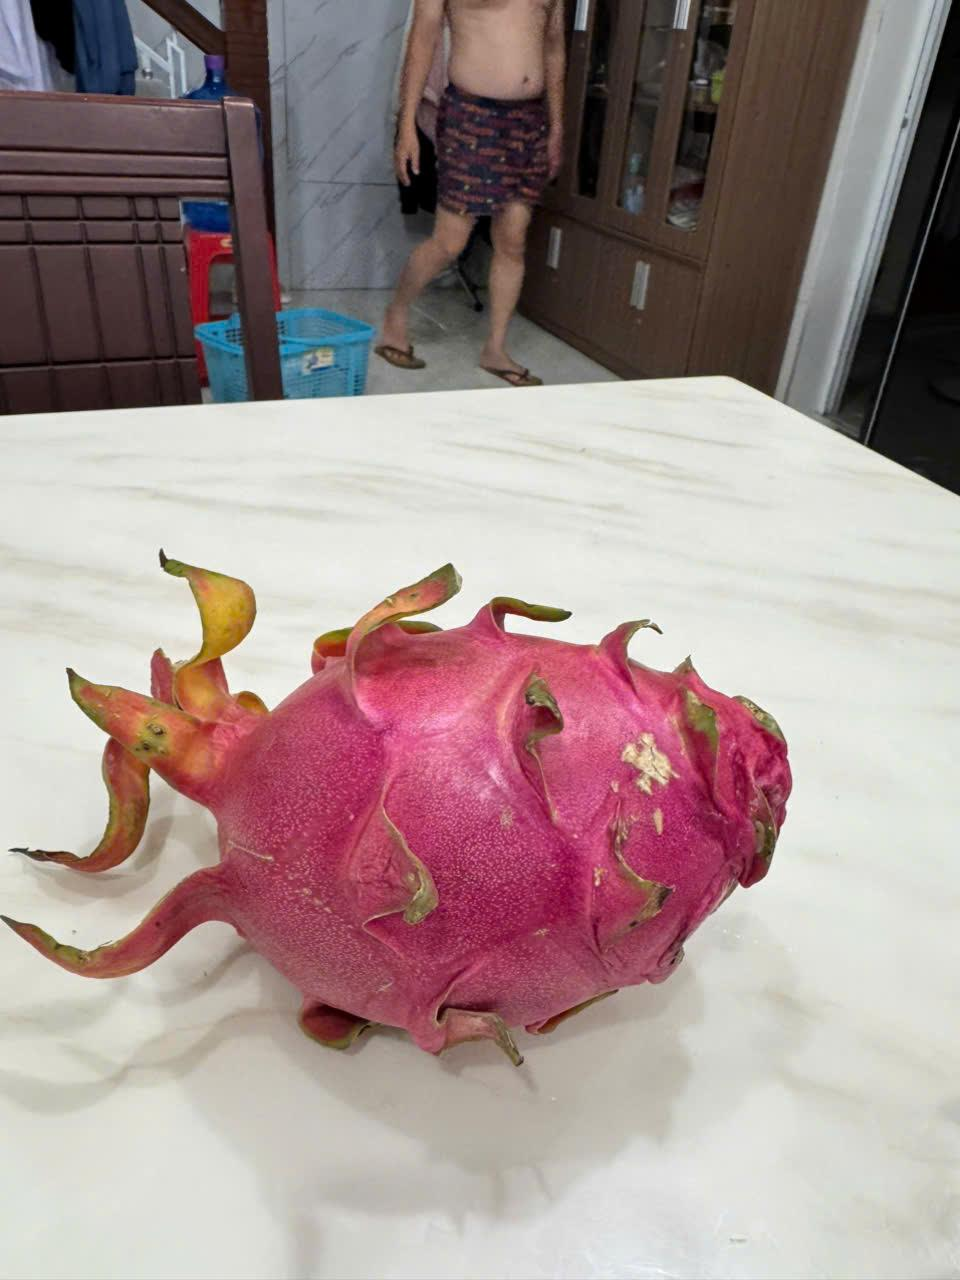dragon fruit: (10, 542, 846, 1110)
